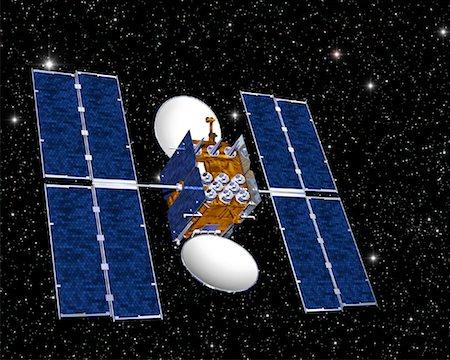antenna: (179, 233, 261, 295), (153, 94, 223, 159)
body: (164, 136, 257, 247)
solar: (42, 181, 166, 325), (269, 193, 381, 316), (29, 66, 140, 184), (238, 88, 341, 194), (153, 127, 199, 203), (165, 164, 208, 242)
